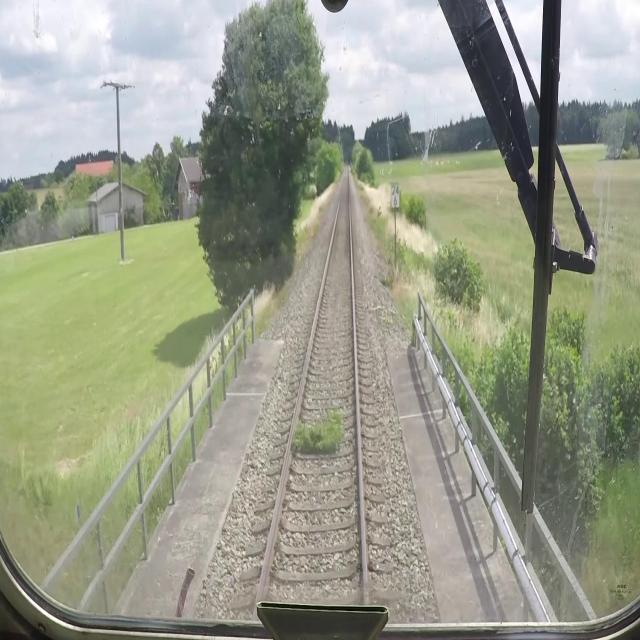rail-track: (262, 161, 363, 596)
